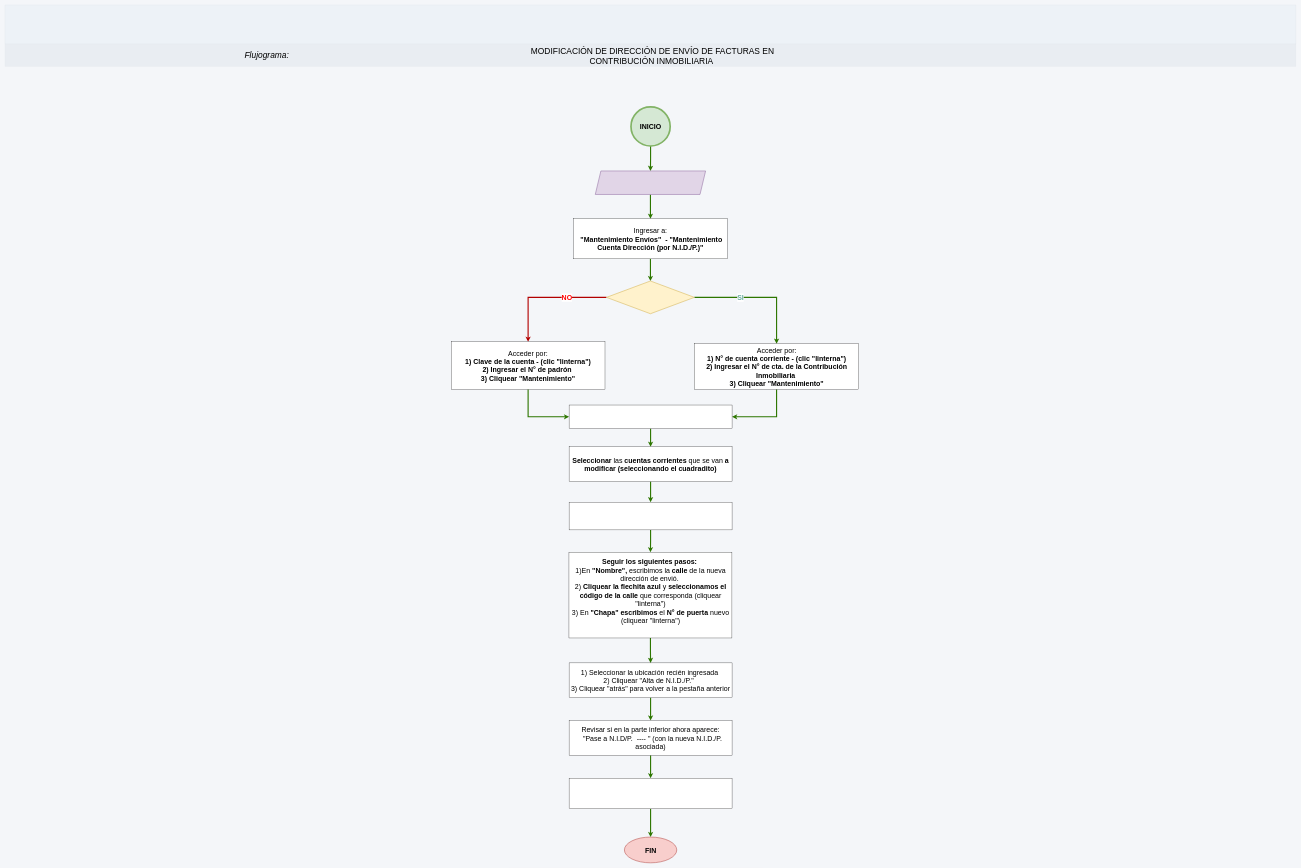
Image size: 1301x868. Some labels were removed from this diagram. Here are the shapes that lost their labels. From the top down, the centre of each, then its label:
point (650, 183): ACCEDER AL SISTEMA: GIC
point (650, 297): ¿Se tiene el N ° de cuenta de la Contribución Inmobiliaria ?
point (650, 417): Cliquear "Cambiar N.I.D./P."
point (650, 516): Cliquear 1) "Búsqueda de N.I.D./P." 2) Clic "linterna"
point (650, 793): Cliquear: 1) "Asignar N.I.D./P." 2) "Confirmación cambio de N.I.D./P."
